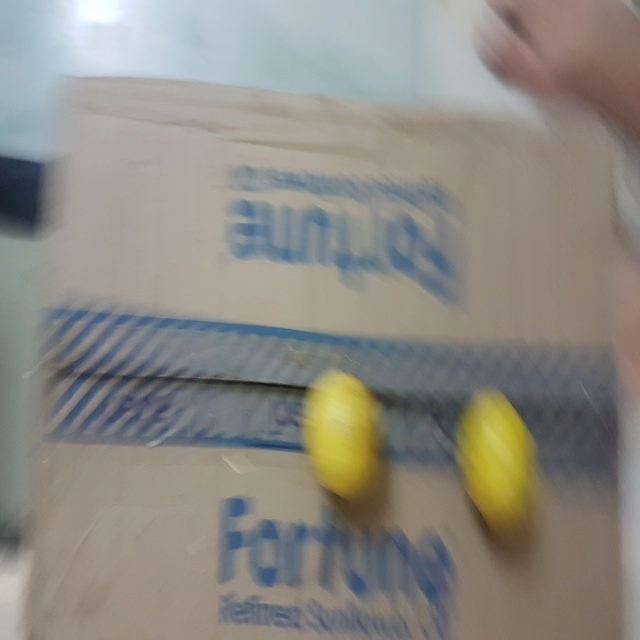lemon: (436, 379, 548, 533), (294, 355, 394, 499)
